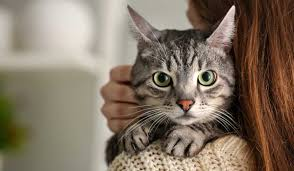Gato: (118, 3, 253, 157)
